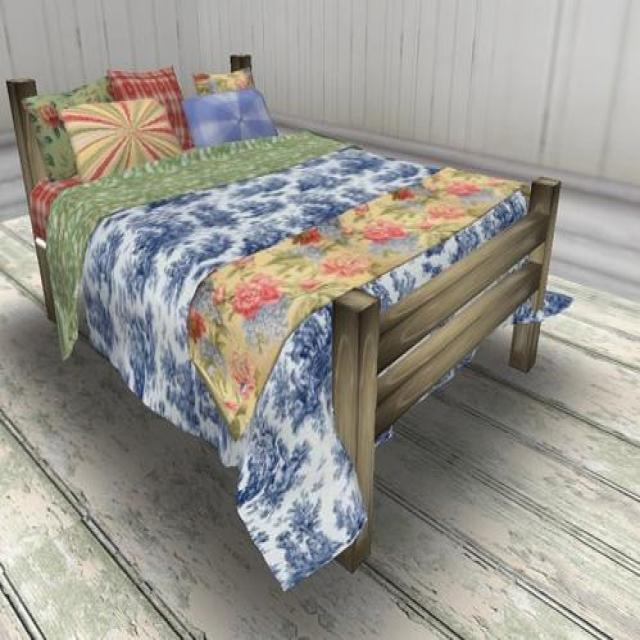bed: (5, 52, 562, 590)
